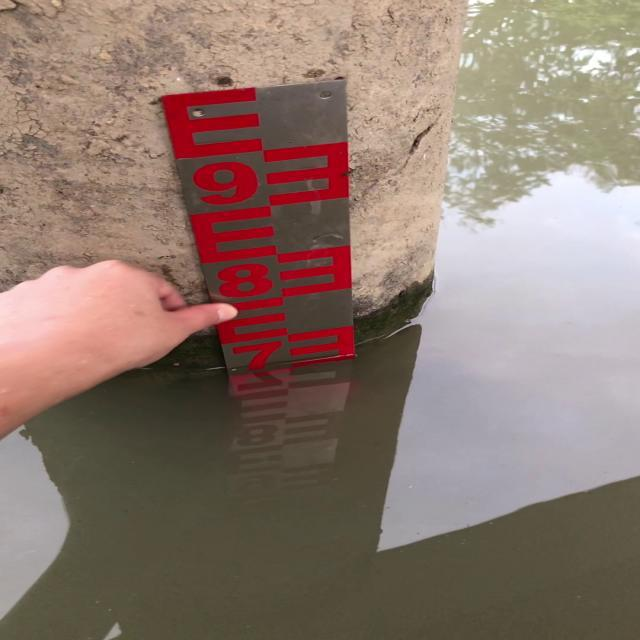ruler: (141, 76, 373, 391)
value: (170, 152, 270, 215), (200, 256, 286, 306), (222, 337, 290, 377)
